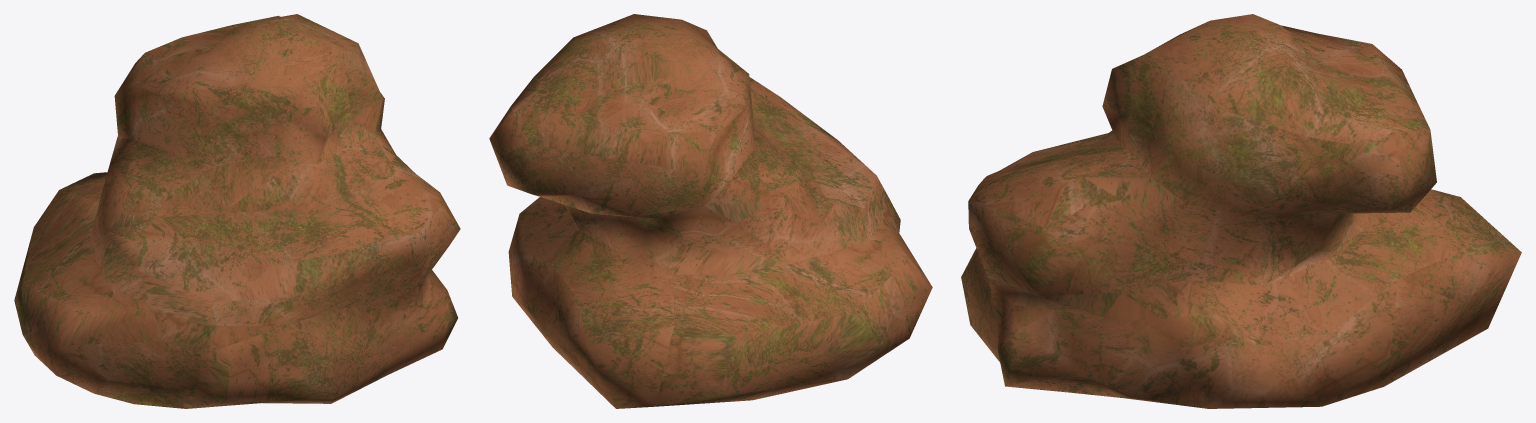
Rendered from ROK0110013.fbx.
3 renders of one model, left to right at view 1: azimuth 30°, elevation 25°; view 2: azimuth 150°, elevation 25°; view 3: azimuth 270°, elevation 25°, orthographic. The views are drawn at different scales.
Visible parts, largest first — view 1: smROK0110013; view 2: smROK0110013; view 3: smROK0110013.
Boxes of the visible parts, <box> form: smROK0110013: <box>14,14,460,408</box>; smROK0110013: <box>489,14,932,408</box>; smROK0110013: <box>961,14,1521,408</box>.
Size of the model in its own units: 212 by 164 by 231.
Materials: 1 (1 with a texture image).
